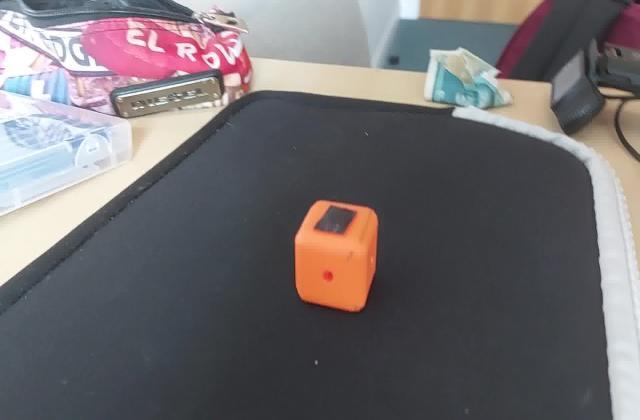black: (312, 207, 359, 237)
cube: (290, 200, 381, 316)
